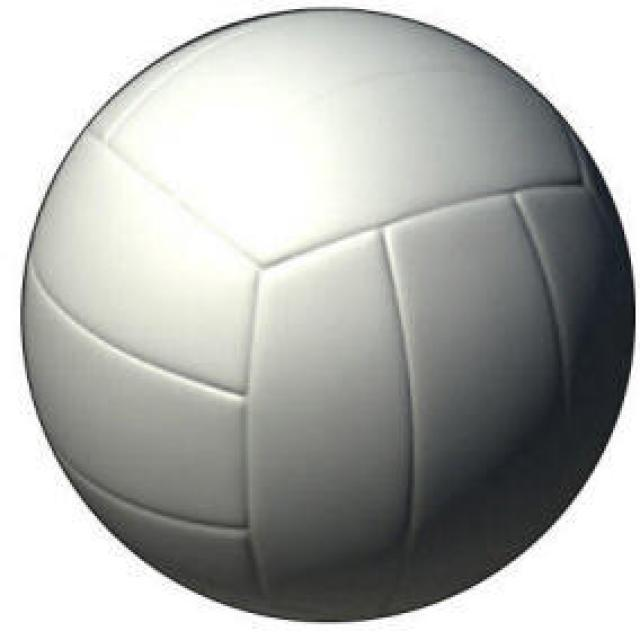volleyball: (23, 9, 634, 624)
